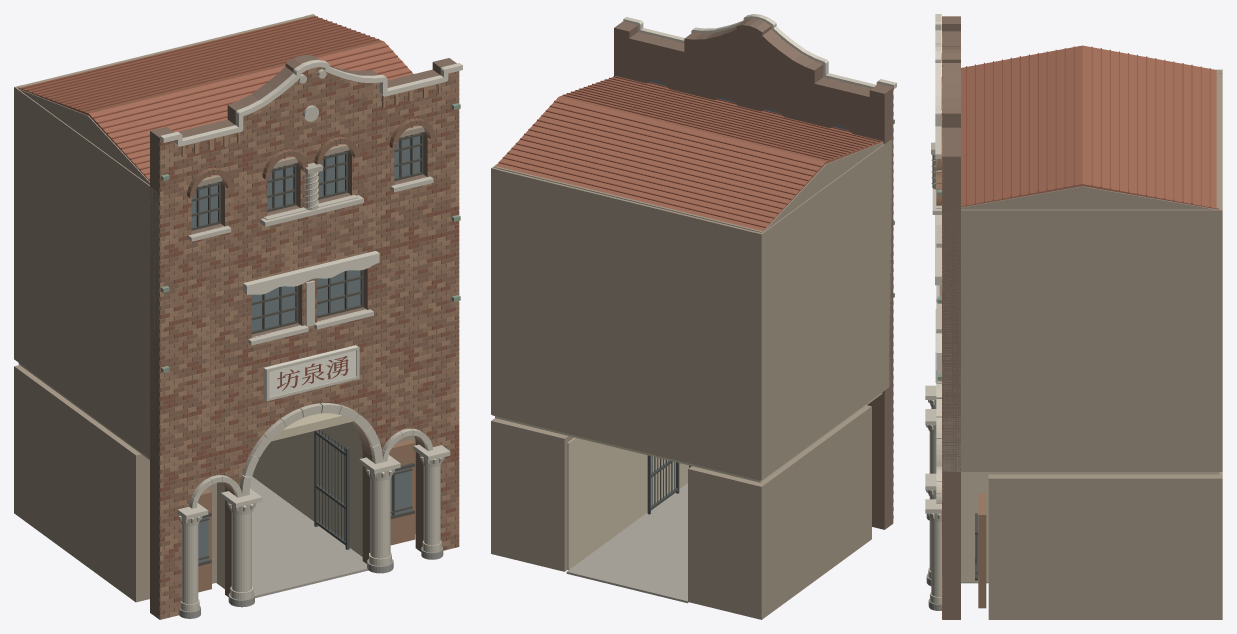
File: jingan-bubbling-well-lane-gate-web.glb
3 renders of one model, left to right at view 1: azimuth 30°, elevation 25°; view 2: azimuth 150°, elevation 25°; view 3: azimuth 270°, elevation 25°, orthographic. The views are drawn at different scales.
Visible parts, largest first — view 1: 涌泉坊愚园路中央拱门与门楼; view 2: 涌泉坊愚园路中央拱门与门楼; view 3: 涌泉坊愚园路中央拱门与门楼.
Part boxes in pixels (x1,y1,x2,y2): 涌泉坊愚园路中央拱门与门楼: (14, 14, 462, 619); 涌泉坊愚园路中央拱门与门楼: (491, 14, 896, 619); 涌泉坊愚园路中央拱门与门楼: (925, 14, 1222, 619).
Bounding box in the file's own units: 8.6 × 14.43 × 7.69.
